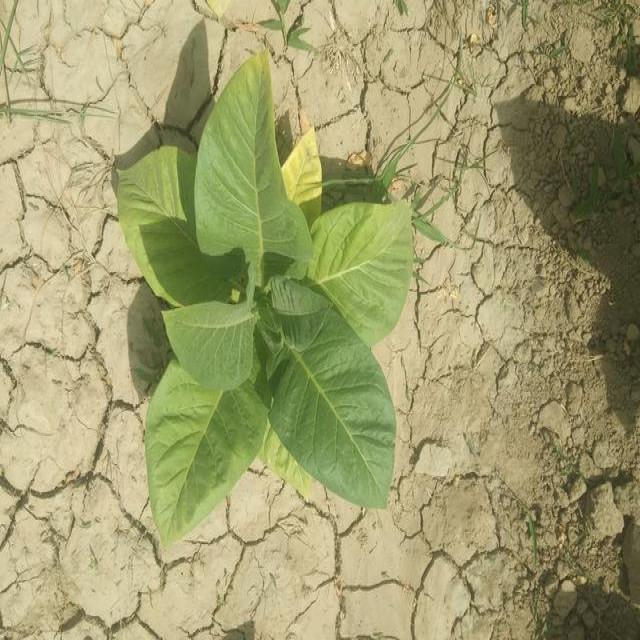crop: (110, 66, 413, 524)
